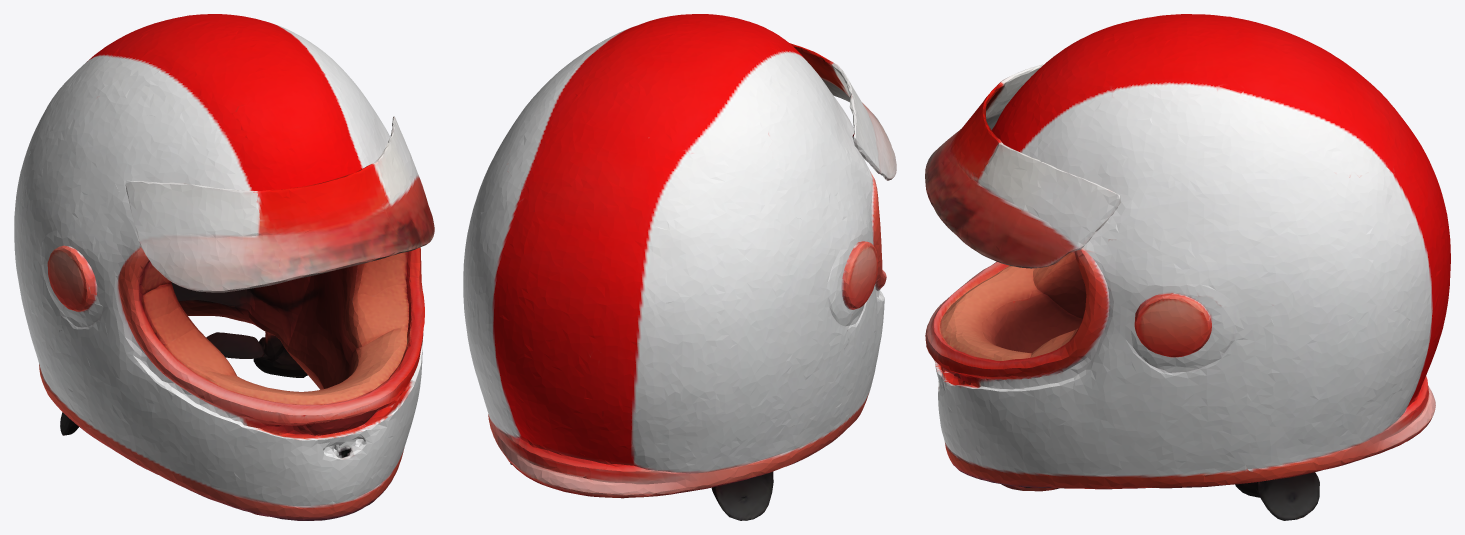
Rendered from hat_helmet.glb.
The picture shows the model from 3 angles, left to right: view 1: azimuth 30°, elevation 25°; view 2: azimuth 150°, elevation 25°; view 3: azimuth 270°, elevation 25°; orthographic projection. The views are drawn at different scales.
Parts seen in each view (by area): view 1: world; view 2: world; view 3: world.
Boxes of the visible parts, <box> form: world: <box>14,14,434,520</box>; world: <box>463,14,896,520</box>; world: <box>925,14,1450,520</box>.
Bounding box in the file's own units: 0.7987 × 0.906 × 1.
Materials: 1 (1 with a texture image).
